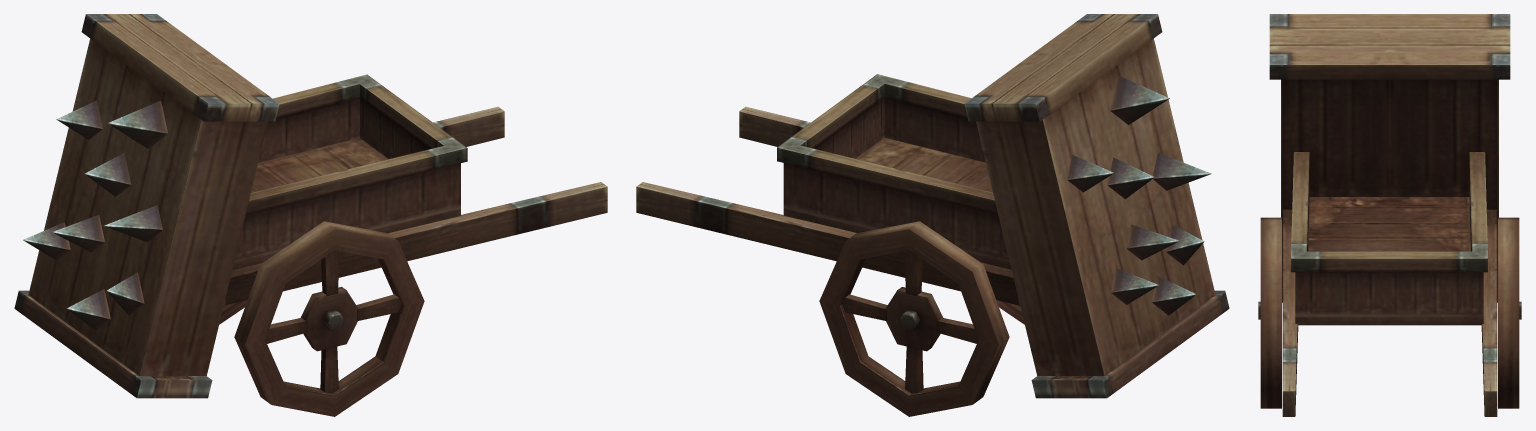
Rendered from yw_yanmenguan_zhanche.FBX.
3 views of the same model, side by side, from view 1: azimuth 30°, elevation 25°; view 2: azimuth 150°, elevation 25°; view 3: azimuth 270°, elevation 25° (orthographic).
Parts seen in each view (by area): view 1: yw_yanmenguan_zhanche; view 2: yw_yanmenguan_zhanche; view 3: yw_yanmenguan_zhanche.
Part boxes in pixels (x1,y1,x2,y2): yw_yanmenguan_zhanche: (14,14,607,416); yw_yanmenguan_zhanche: (636,14,1229,416); yw_yanmenguan_zhanche: (1258,14,1521,416).
Bounding box in the file's own units: 333 × 216 × 155.
